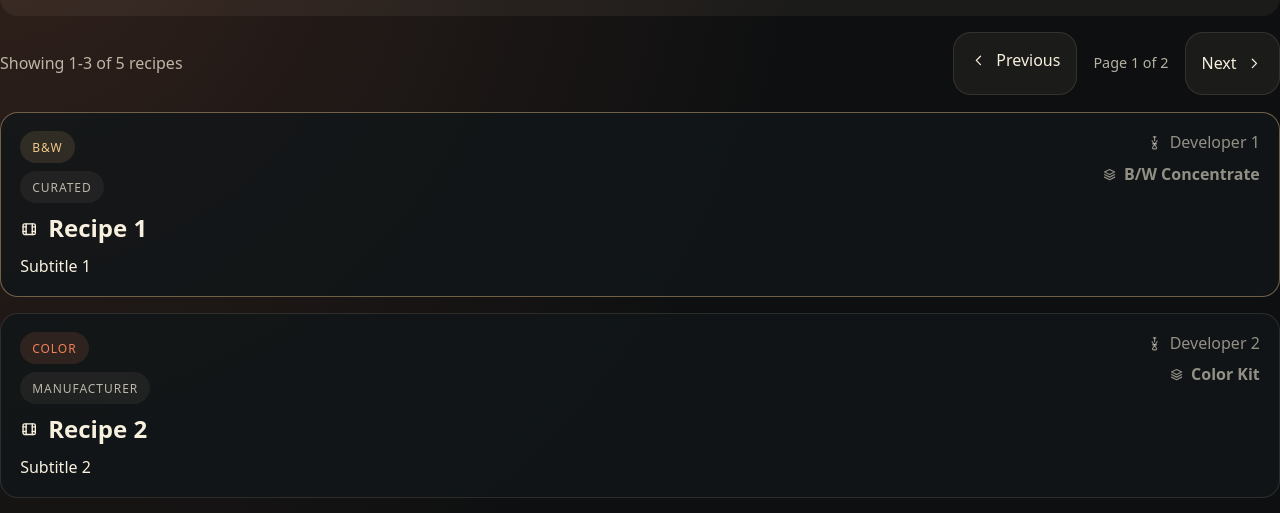
RecipeBrowser › shows recipes in pages of three and keeps the guide below the recipe list
This screenshot has width=1280, height=513.
Expected: the button "B&W Curated Recipe 1 Subtitle 1 Developer 1 B/W concentrate" is shown, [0, 112, 1279, 298]
Expected: the button "Color Manufacturer Recipe 2 Subtitle 2 Developer 2 Color kit" is shown, [0, 313, 1279, 498]
Click the button "Next" at coordinates (1232, 64), box [1184, 32, 1279, 95]
(page scrolled)
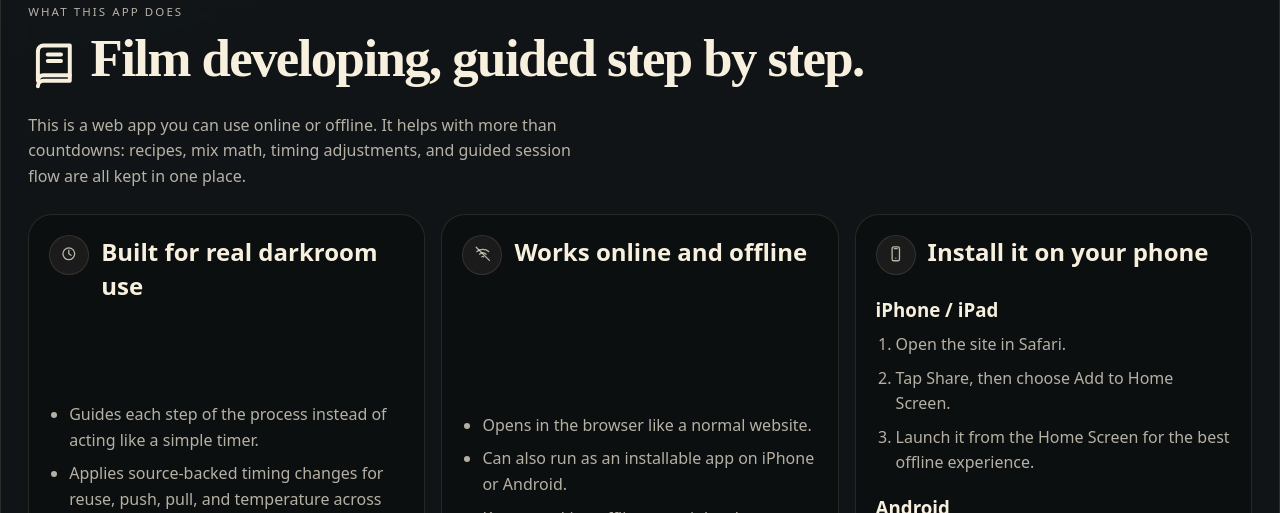
Expected: the heading "Install it on your phone" is shown, [928, 234, 1208, 269]
Result: the button "Recipe 1" is gone
